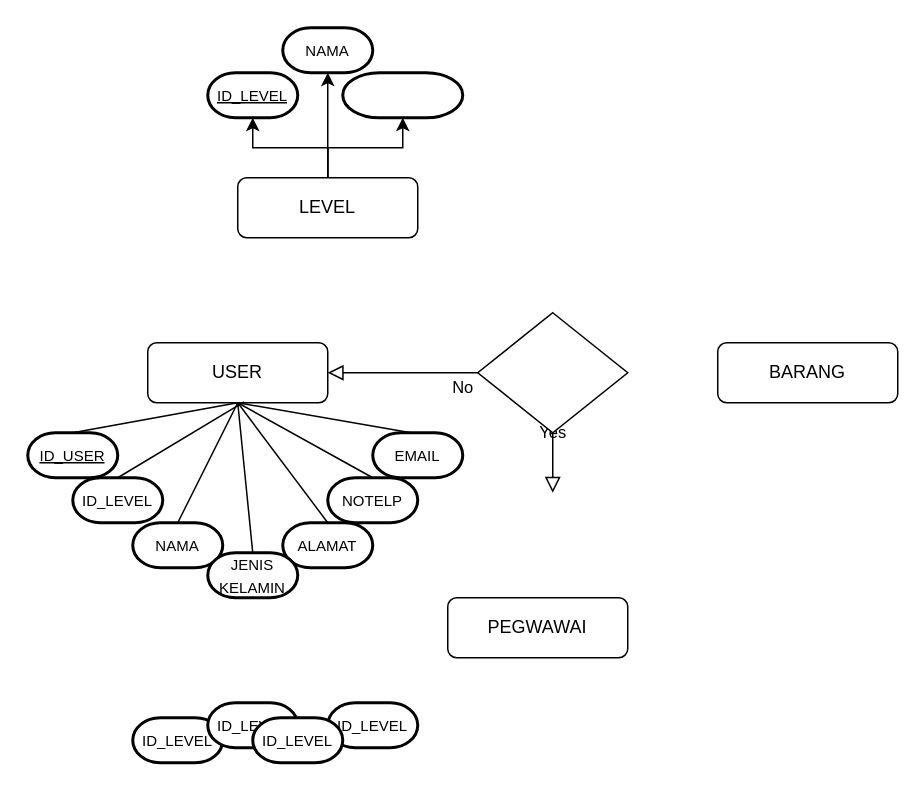
This 924x789 diagram has some shape labels left out. Each missing label, with the centre of its shape:
"KETERANGAN" belongs at (402,94).
"TRANSAKSI" belongs at (552,372).
